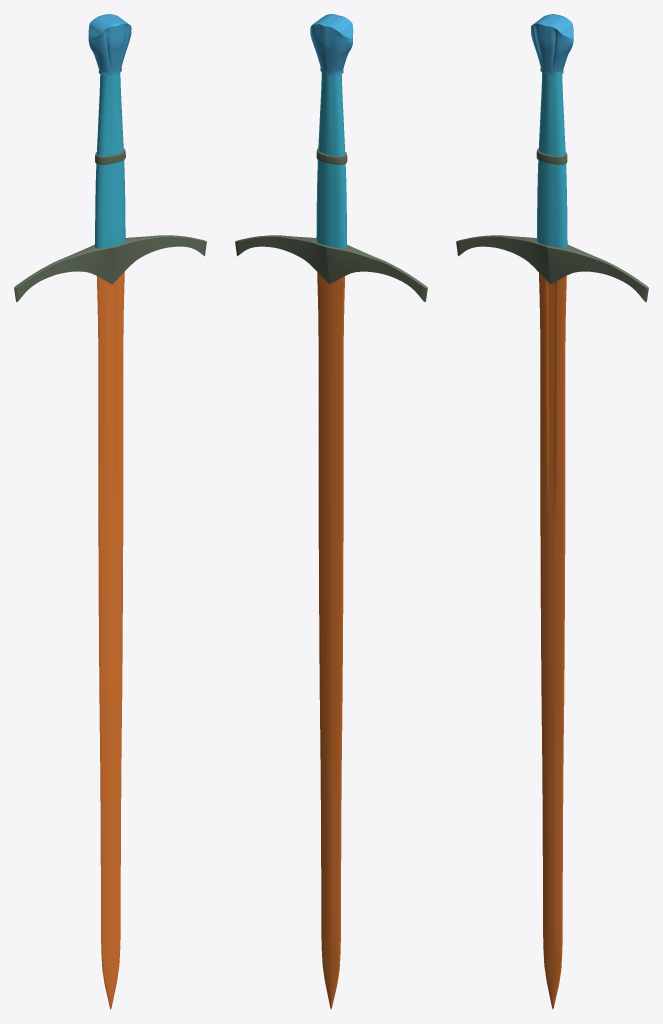
3 views of the same model, side by side, from view 1: azimuth 30°, elevation 25°; view 2: azimuth 150°, elevation 25°; view 3: azimuth 330°, elevation 25° (orthographic).
Visible parts, largest first — view 1: Object_6, Object_2, split_parent_2, Object_3; view 2: Object_6, Object_2, split_parent_2, Object_3; view 3: Object_6, Object_2, split_parent_2, Object_3.
Boxes of the visible parts, x1,y1,x2,y2 form: Object_6: [97, 272, 124, 1009]; Object_2: [95, 73, 125, 248]; split_parent_2: [14, 148, 206, 301]; Object_3: [88, 14, 131, 75]; Object_6: [317, 272, 344, 1009]; Object_2: [316, 72, 346, 248]; split_parent_2: [235, 148, 427, 301]; Object_3: [310, 14, 353, 75]; Object_6: [539, 273, 566, 1009]; Object_2: [537, 72, 567, 248]; split_parent_2: [456, 148, 648, 301]; Object_3: [530, 14, 573, 75].
Size of the model in its own units: 0.2029 by 1 by 0.027.
